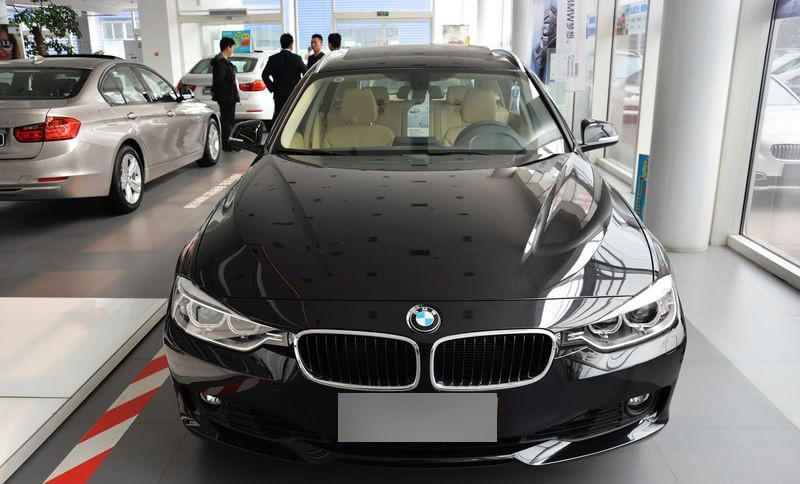Wagon: (163, 44, 688, 468)
